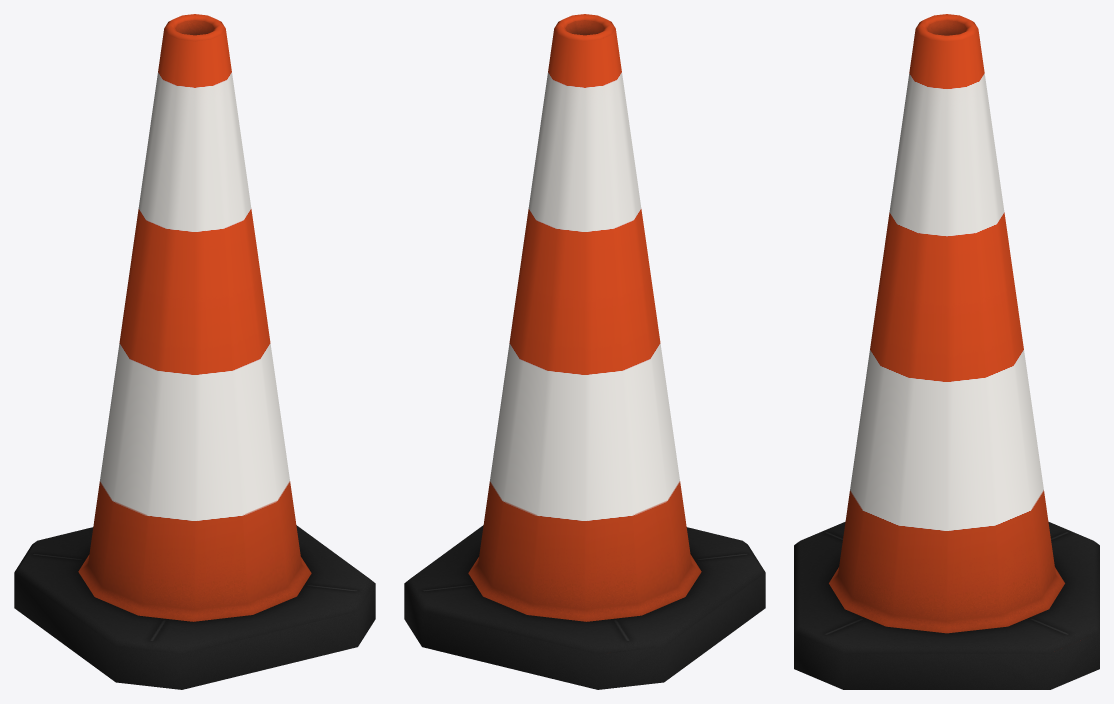
File: construction_cone.glb
3 renders of one model, left to right at view 1: azimuth 30°, elevation 25°; view 2: azimuth 150°, elevation 25°; view 3: azimuth 270°, elevation 25°, orthographic.
Visible parts, largest first — view 1: Box001; view 2: Box001; view 3: Box001.
Part boxes in pixels (x1=…): Box001: x1=14, y1=14, x2=375, y2=689; Box001: x1=404, y1=14, x2=765, y2=689; Box001: x1=794, y1=14, x2=1099, y2=689.
Size of the model in its own units: 0.0503 by 0.1089 by 0.0503.
1 material, 1 textured.
